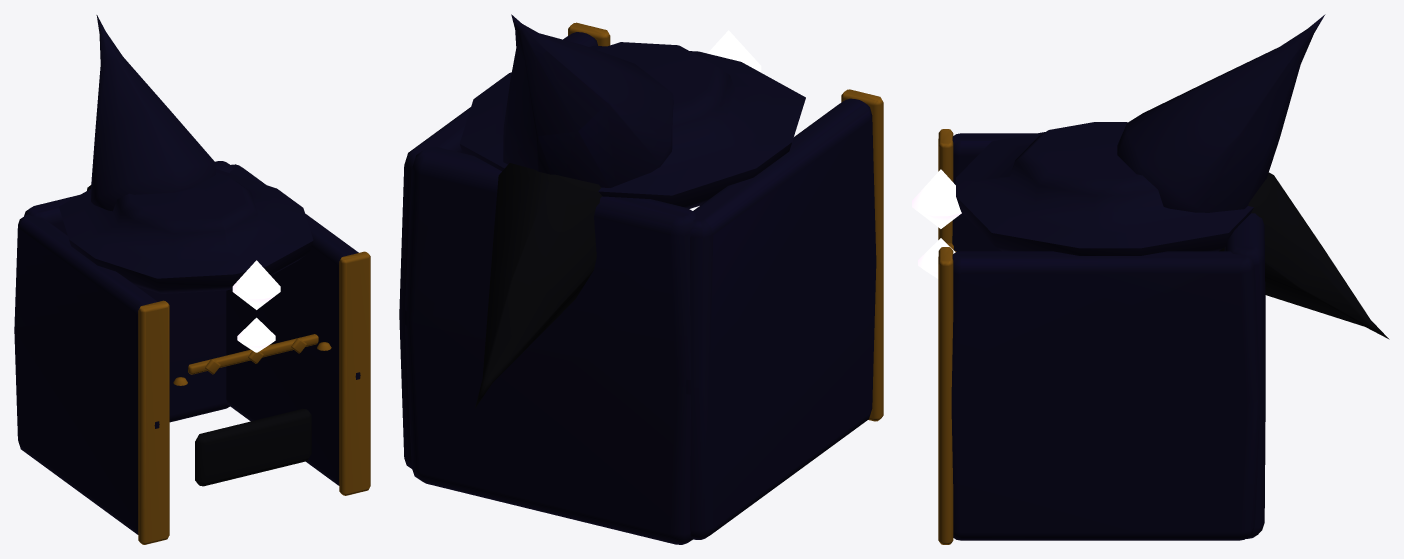
Rendered from Veu_Elmo.fbx.
3 views of the same model, side by side, from view 1: azimuth 30°, elevation 25°; view 2: azimuth 150°, elevation 25°; view 3: azimuth 270°, elevation 25° (orthographic). The views are drawn at different scales.
Parts seen in each view (by area): view 1: Piece; view 2: Piece; view 3: Piece.
Boxes of the visible parts, x1,y1,x2,y2 form: Piece: (14,15,370,544); Piece: (399,14,883,544); Piece: (912,14,1389,544).
Bounding box in the file's own units: 0.3488 × 0.5651 × 0.5227.
